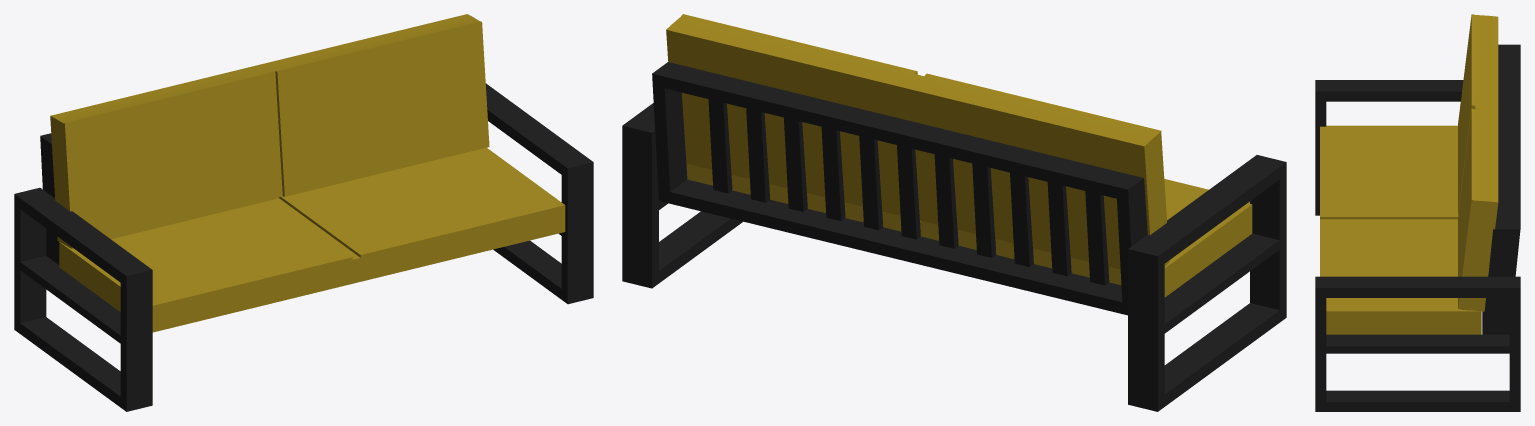
Rendered from PatioChair001_M_v1_Carrie.FBX.
3 renders of one model, left to right at view 1: azimuth 30°, elevation 25°; view 2: azimuth 150°, elevation 25°; view 3: azimuth 270°, elevation 25°, orthographic. The views are drawn at different scales.
Visible parts, largest first — view 1: PatioChair001; view 2: PatioChair001; view 3: PatioChair001.
Part boxes in pixels (bbox=[...]): PatioChair001: bbox=[14, 14, 593, 411]; PatioChair001: bbox=[622, 14, 1286, 411]; PatioChair001: bbox=[1315, 14, 1520, 411].
Bounding box in the file's own units: 672 × 302 × 280.
